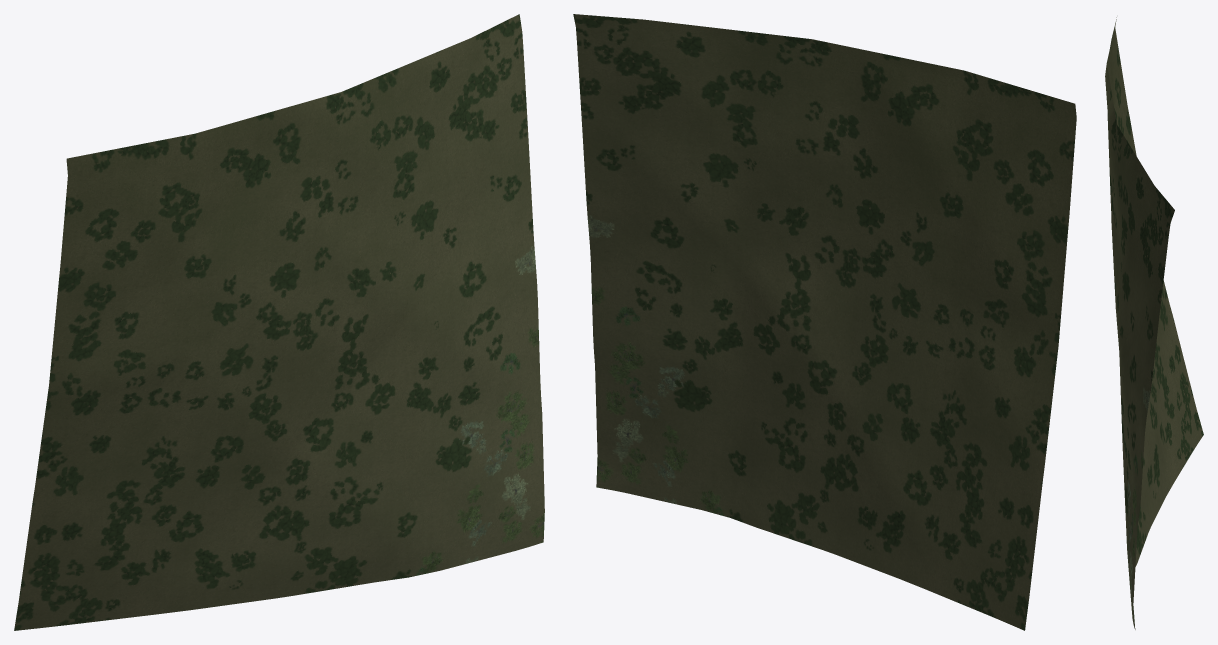
Rendered from terrain_near_01_09.obj.
3 renders of one model, left to right at view 1: azimuth 30°, elevation 25°; view 2: azimuth 150°, elevation 25°; view 3: azimuth 270°, elevation 25°, orthographic. The views are drawn at different scales.
Visible parts, largest first — view 1: terrain_near_01_09; view 2: terrain_near_01_09; view 3: terrain_near_01_09.
Boxes of the visible parts, bbox=[...] form: terrain_near_01_09: bbox=[14, 14, 544, 630]; terrain_near_01_09: bbox=[573, 14, 1076, 630]; terrain_near_01_09: bbox=[1105, 17, 1203, 629].
Size of the model in its own units: 64 by 64 by 13.62.
1 material, 1 textured.
